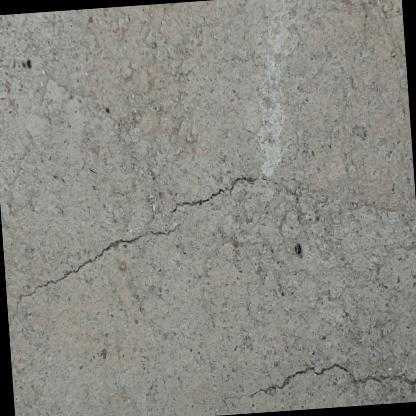crack: (22, 223, 176, 299), (248, 363, 416, 397), (171, 174, 257, 211)
